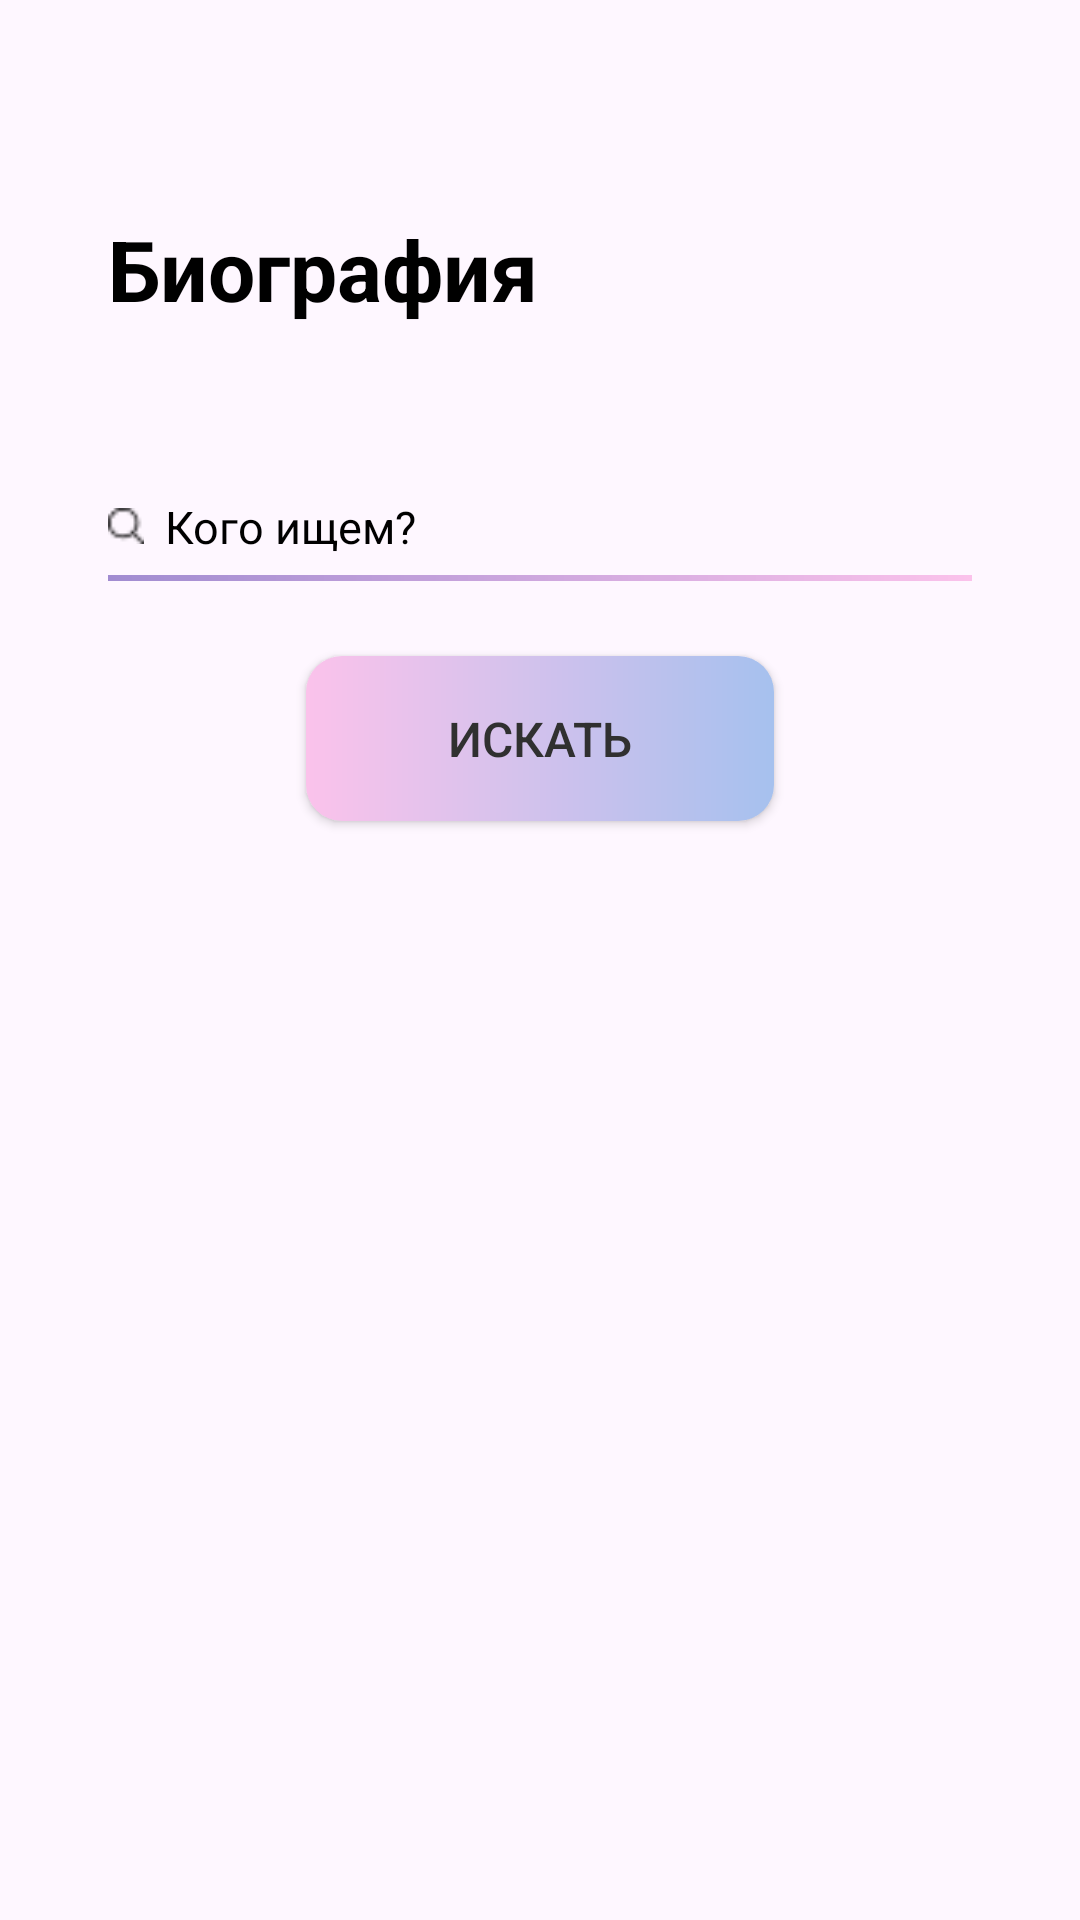

Where to tap for icons on this 1080x1920 app screen, as [x,y]:
Изображение лупы: [126,526]
